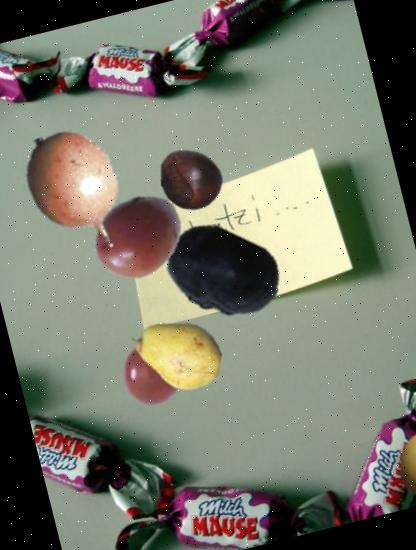Blueberry: (152, 202, 294, 344)
Chestnut: (155, 142, 230, 218)
Granadilla: (0, 114, 154, 270)
Grapefruit: (390, 423, 416, 508)
Pear: (120, 298, 232, 411)
Potato: (83, 182, 195, 294)
Redcurrant: (115, 337, 190, 412)
